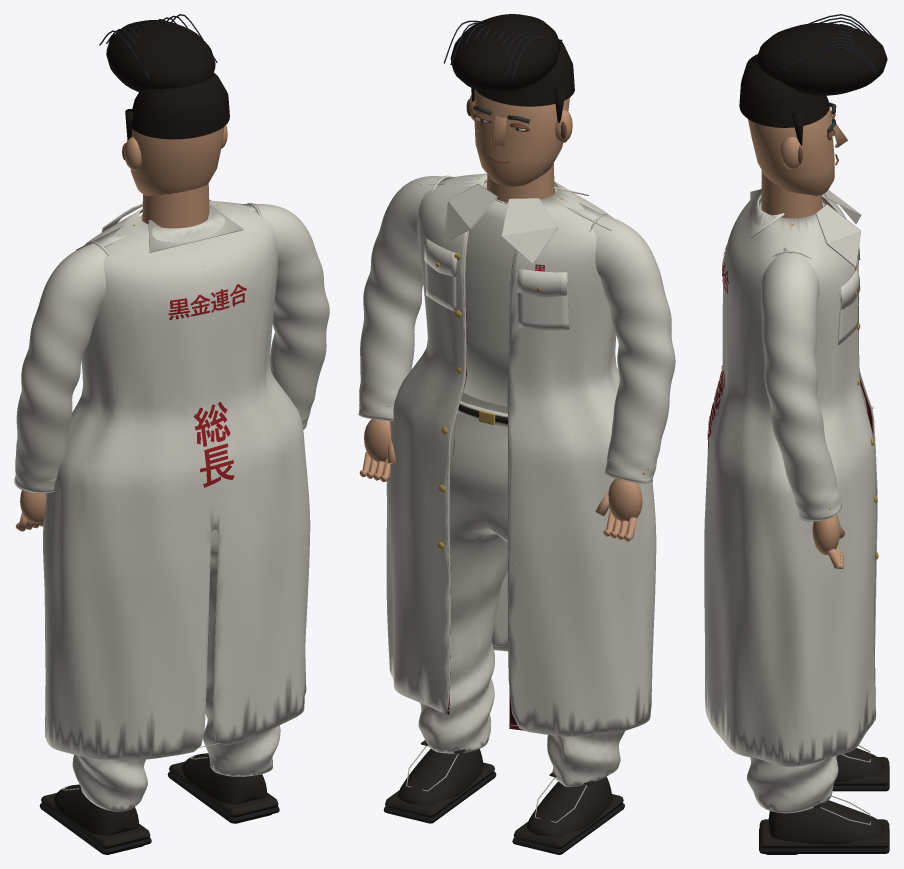
The picture shows the model from 3 angles, left to right: view 1: azimuth 30°, elevation 25°; view 2: azimuth 150°, elevation 25°; view 3: azimuth 270°, elevation 25°; orthographic projection.
Parts seen in each view (by area): view 1: YK_V2_Tailored coat shell, YK_V2_Set in shaped sleeve, YK_V2_Set in shaped sleeve.001, YK_V2_Sewn high waist bontan, YK_Pompadour_ClothingV2, YK_SlickHair_ClothingV2, YK_Face_ClothingV2, YK_V2_Shaped loafer leather.001, YK_V2_Shaped loafer leather, YK_Neck_ClothingV2, YK_V2_Surface embroidery_総長, YK_V2_Loafer welt.001 (+6 smaller); view 2: YK_V2_Tailored coat shell, YK_V2_Sewn high waist bontan, YK_V2_Set in shaped sleeve, YK_V2_Set in shaped sleeve.001, YK_V2_Cotton tee beneath coat, YK_Pompadour_ClothingV2, YK_Face_ClothingV2, YK_V2_Shaped loafer leather, YK_V2_Shaped loafer leather.001, YK_V2_Turned shirt collar, YK_SlickHair_ClothingV2, YK_V2_Chest patch pocket (+11 smaller); view 3: YK_V2_Tailored coat shell, YK_V2_Set in shaped sleeve.001, YK_Pompadour_ClothingV2, YK_Face_ClothingV2, YK_V2_Sewn high waist bontan, YK_SlickHair_ClothingV2, YK_V2_Shaped loafer leather.001, YK_Neck_ClothingV2, YK_V2_Turned shirt collar.001, YK_V2_Loafer welt.001, YK_V2_Shaped loafer leather, YK_V2_Relaxed palm.001 (+6 smaller).
Part boxes in pixels (x1,y1,x2,y2): YK_V2_Tailored coat shell: (43, 200, 310, 759); YK_V2_Set in shaped sleeve: (15, 241, 108, 492); YK_V2_Set in shaped sleeve.001: (247, 203, 329, 428); YK_V2_Sewn high waist bontan: (72, 529, 280, 811); YK_Pompadour_ClothingV2: (106, 20, 215, 91); YK_SlickHair_ClothingV2: (130, 73, 229, 139); YK_Face_ClothingV2: (130, 127, 224, 196); YK_V2_Shaped loafer leather.001: (182, 753, 266, 804); YK_V2_Shaped loafer leather: (54, 784, 139, 835); YK_Neck_ClothingV2: (142, 183, 209, 228); YK_V2_Surface embroidery_総長: (194, 402, 234, 487); YK_V2_Loafer welt.001: (169, 761, 278, 817); YK_V2_Tailored coat shell: (386, 173, 656, 736); YK_V2_Sewn high waist bontan: (418, 392, 624, 786); YK_V2_Set in shaped sleeve: (590, 213, 675, 482); YK_V2_Set in shaped sleeve.001: (359, 176, 452, 420); YK_V2_Cotton tee beneath coat: (463, 182, 557, 406); YK_Pompadour_ClothingV2: (450, 14, 560, 92); YK_Face_ClothingV2: (474, 89, 569, 186); YK_V2_Shaped loafer leather: (526, 776, 612, 836); YK_V2_Shaped loafer leather.001: (398, 749, 483, 804); YK_V2_Turned shirt collar: (501, 198, 557, 263); YK_SlickHair_ClothingV2: (476, 40, 574, 106); YK_V2_Chest patch pocket: (518, 277, 569, 329); YK_V2_Tailored coat shell: (704, 188, 877, 766); YK_V2_Set in shaped sleeve.001: (761, 251, 841, 520); YK_Pompadour_ClothingV2: (756, 23, 887, 95); YK_Face_ClothingV2: (748, 106, 834, 195); YK_V2_Sewn high waist bontan: (746, 756, 838, 813); YK_SlickHair_ClothingV2: (739, 54, 829, 127); YK_V2_Shaped loafer leather.001: (768, 800, 884, 844); YK_Neck_ClothingV2: (761, 170, 822, 218); YK_V2_Turned shirt collar.001: (815, 204, 860, 267); YK_V2_Loafer welt.001: (759, 819, 889, 848); YK_V2_Shaped loafer leather: (835, 748, 884, 781); YK_V2_Relaxed palm.001: (812, 515, 840, 555).
Size of the model in its own units: 0.7204 by 1.78 by 0.3819.
